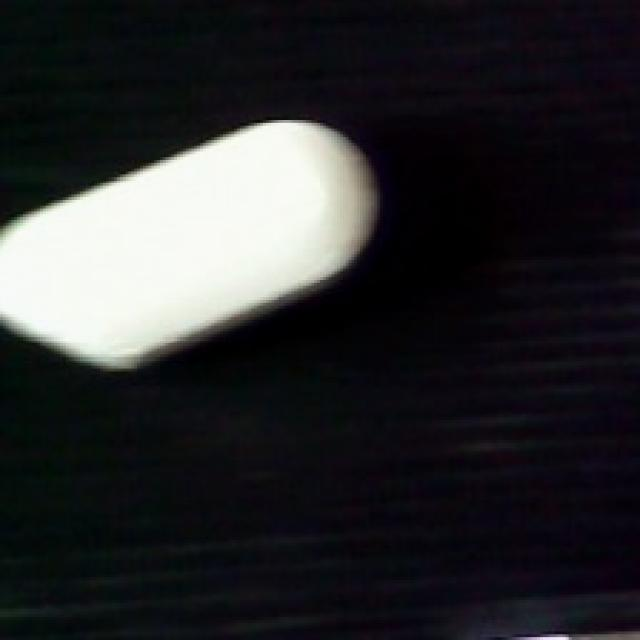defected: (0, 117, 380, 371)
